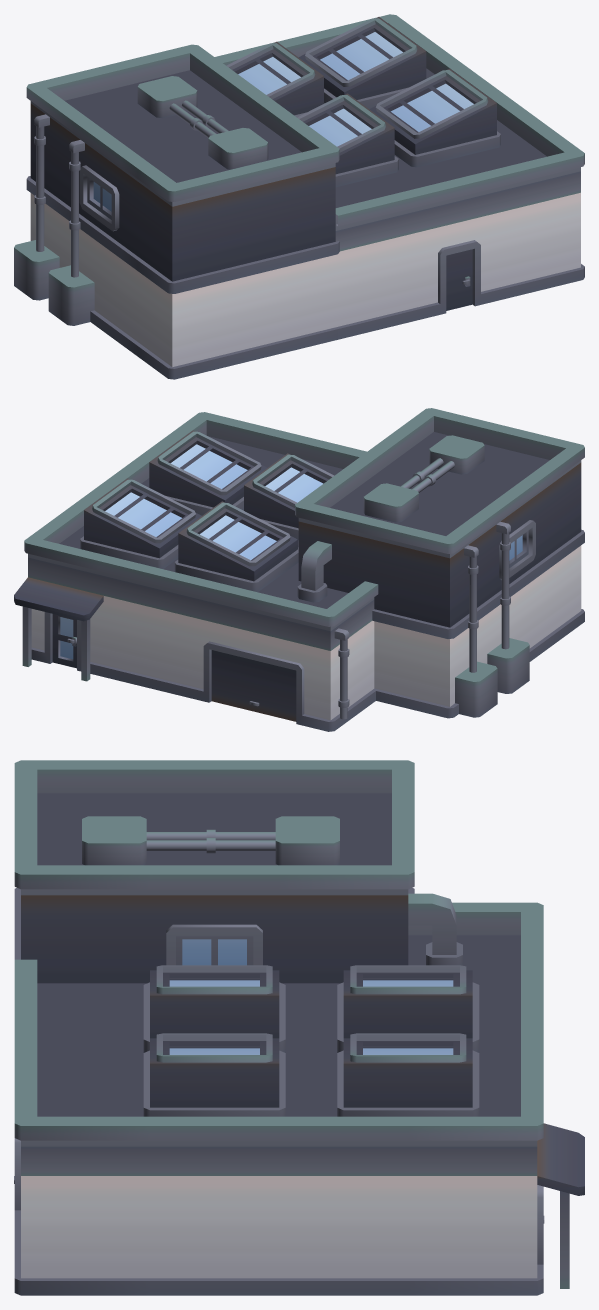
File: ind_building_q.glb
3 views of the same model, one above another, from view 1: azimuth 30°, elevation 25°; view 2: azimuth 150°, elevation 25°; view 3: azimuth 270°, elevation 25° (orthographic). The views are drawn at different scales.
Visible parts, largest first — view 1: building-q; view 2: building-q; view 3: building-q.
Part boxes in pixels (left/top/right/bottom): building-q: left=14, top=14, right=584, bottom=379; building-q: left=14, top=408, right=584, bottom=731; building-q: left=14, top=760, right=584, bottom=1295.
Size of the model in its own units: 2.14 by 0.88 by 1.77.
1 material, 1 textured.
